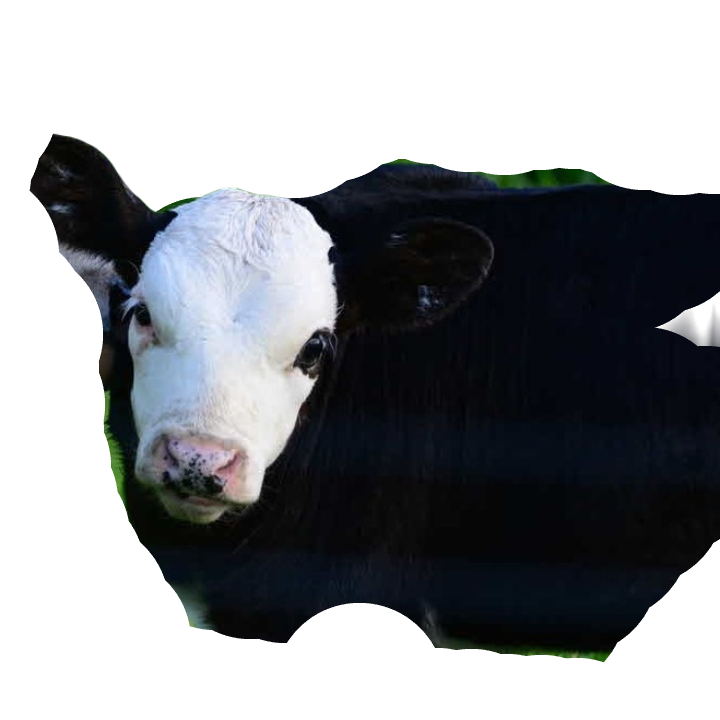Cow: (37, 134, 719, 636)
